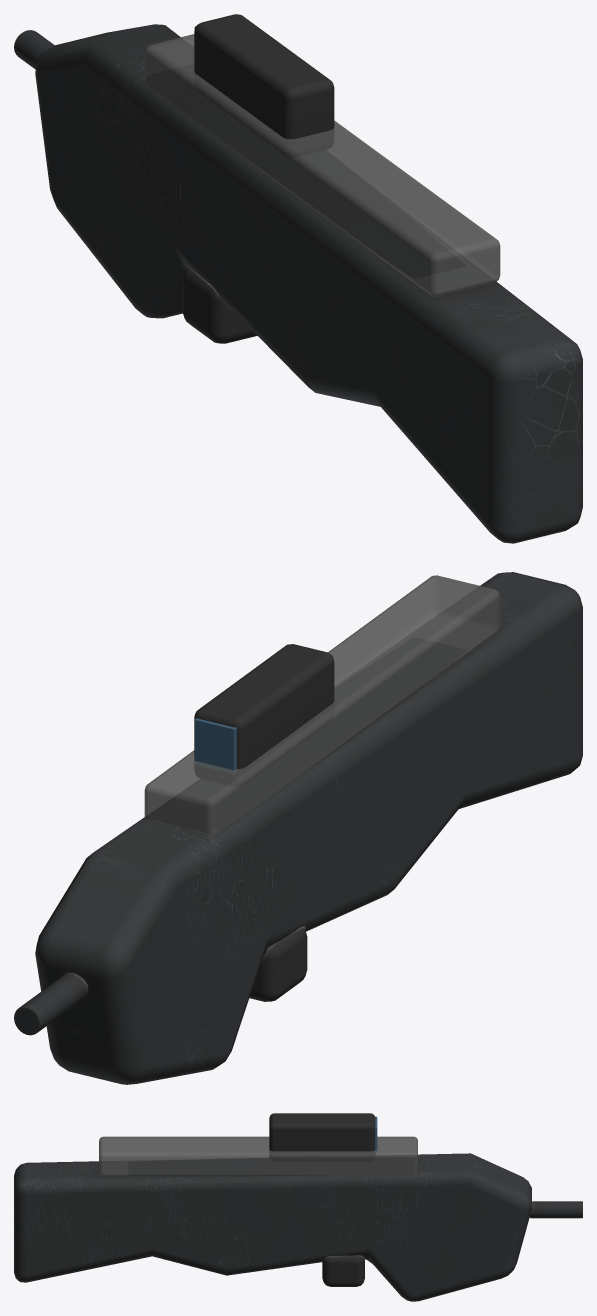
The picture shows the model from 3 angles, top to bottom: view 1: azimuth 30°, elevation 25°; view 2: azimuth 150°, elevation 25°; view 3: azimuth 270°, elevation 25°; orthographic projection. The views are drawn at different scales.
Visible parts, largest first — view 1: Frame, TopMag; view 2: Frame, TopMag, OpticGlass; view 3: Frame, TopMag.
Part boxes in pixels (bbox=[...]): Frame: bbox=[14, 14, 582, 543]; TopMag: bbox=[144, 34, 500, 296]; Frame: bbox=[14, 572, 582, 1084]; TopMag: bbox=[144, 575, 500, 834]; OpticGlass: bbox=[194, 718, 236, 773]; Frame: bbox=[14, 1113, 582, 1301]; TopMag: bbox=[99, 1136, 417, 1176].
Size of the model in its own units: 0.058 by 0.1822 by 0.535.
Materials: 5 (3 with a texture image).
